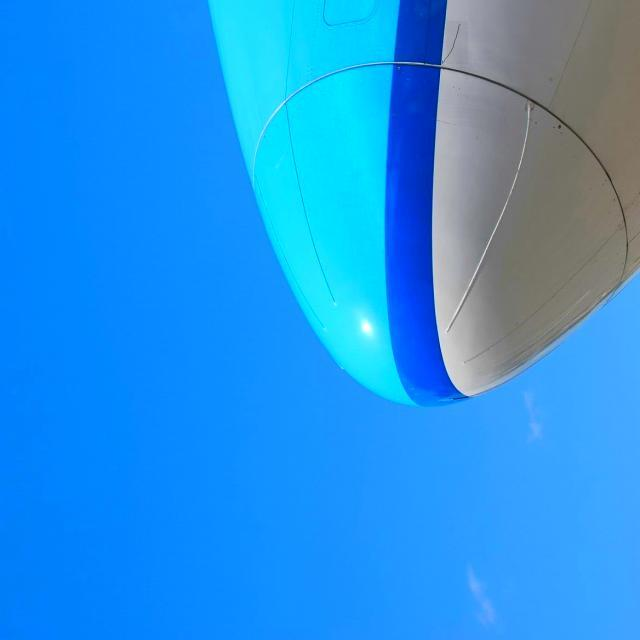crack: (447, 22, 469, 65)
